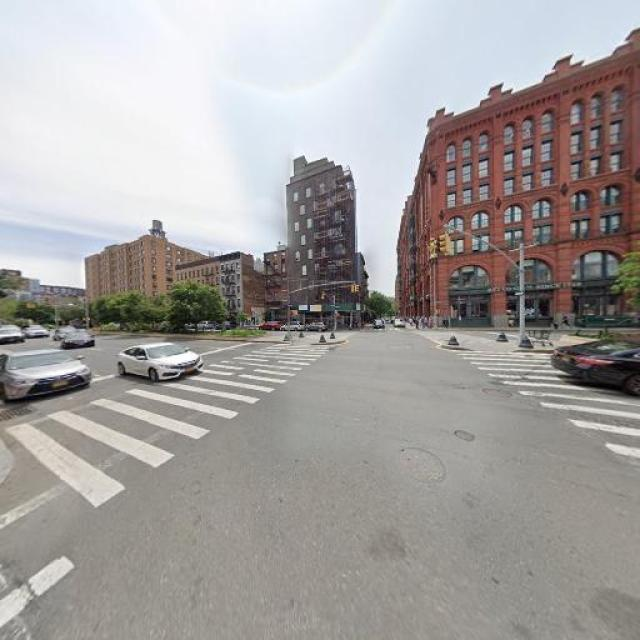Building: (400, 54, 640, 334), (289, 165, 354, 329), (177, 259, 219, 325), (222, 254, 242, 327), (265, 253, 283, 325)
